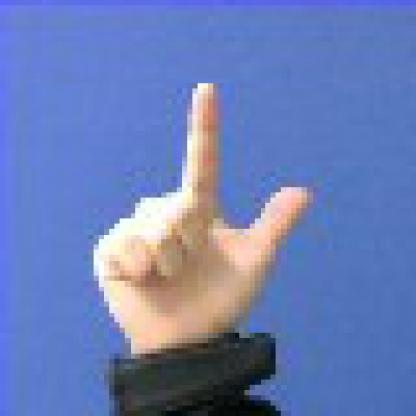seven: (78, 66, 326, 371)
